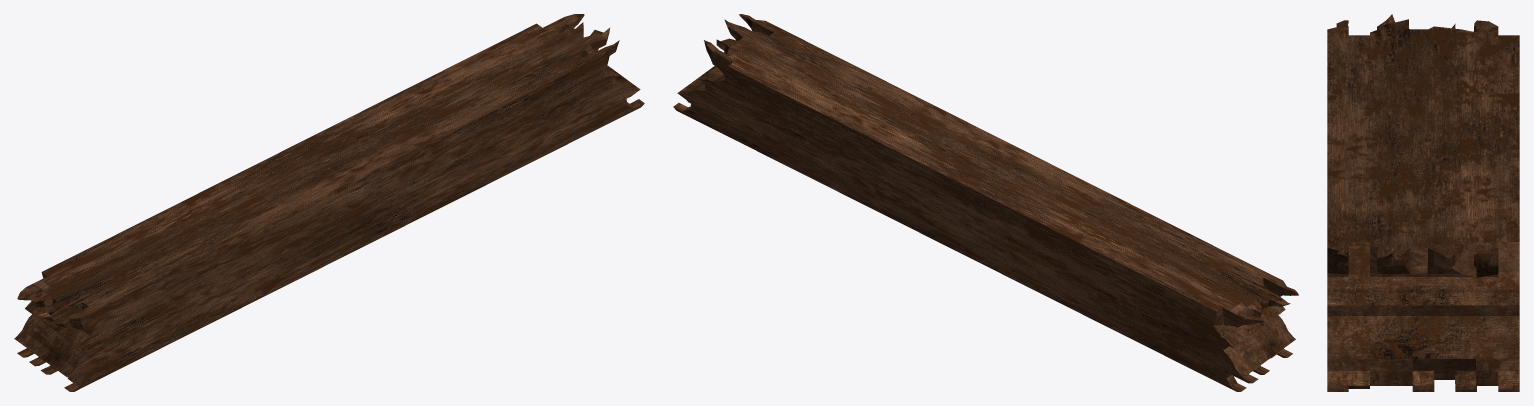
File: MaderaRota_TechoDerecha.fbx
3 renders of one model, left to right at view 1: azimuth 30°, elevation 25°; view 2: azimuth 150°, elevation 25°; view 3: azimuth 270°, elevation 25°, orthographic. The views are drawn at different scales.
Parts seen in each view (by area): view 1: Cube.019; view 2: Cube.019; view 3: Cube.019.
Part boxes in pixels (box(x1,y1,x2,y2)): Cube.019: box(14, 14, 644, 391); Cube.019: box(673, 14, 1298, 391); Cube.019: box(1327, 14, 1519, 391).
Bounding box in the file's own units: 1295 × 454 × 201.
1 material, 1 textured.
